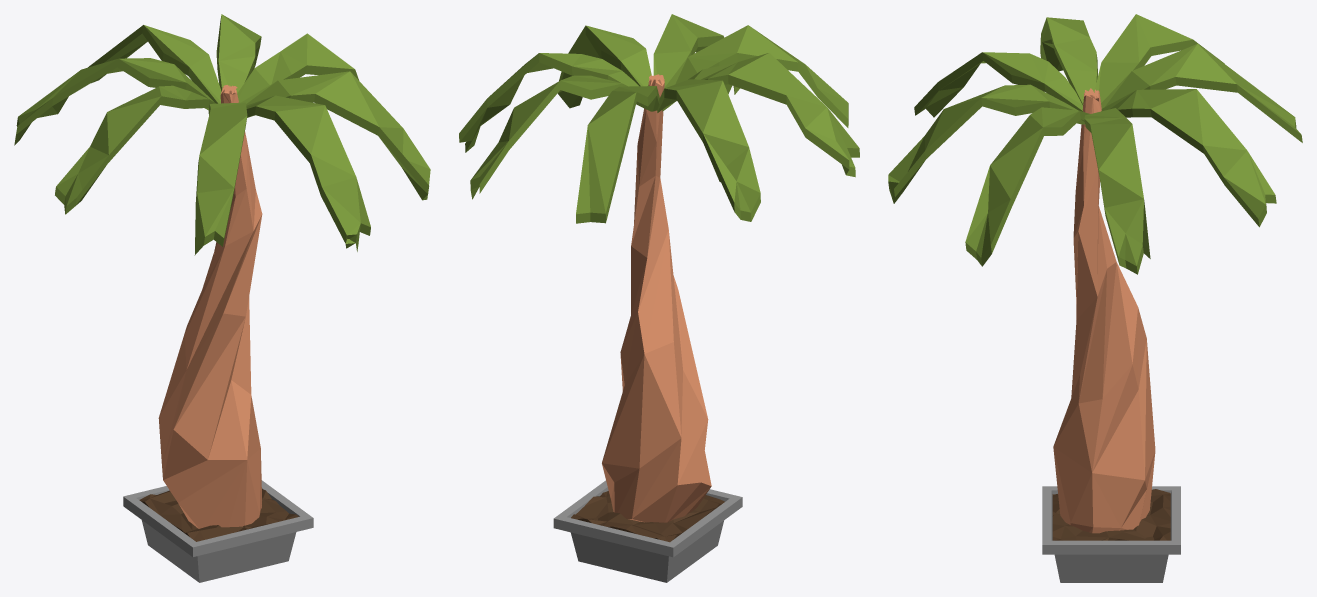
File: palmier.fbx
The picture shows the model from 3 angles, left to right: view 1: azimuth 30°, elevation 25°; view 2: azimuth 150°, elevation 25°; view 3: azimuth 270°, elevation 25°; orthographic projection.
Visible parts, largest first — view 1: Plane, Cylinder.001, Cube, Plane.001; view 2: Plane, Cylinder.001, Cube, Plane.001; view 3: Plane, Cylinder.001, Cube, Plane.001.
Boxes of the visible parts, bbox=[...] form: Plane: bbox=[14, 14, 430, 255]; Cylinder.001: bbox=[158, 85, 262, 528]; Cube: bbox=[123, 480, 313, 582]; Plane.001: bbox=[139, 489, 298, 541]; Plane: bbox=[459, 14, 859, 223]; Cylinder.001: bbox=[602, 74, 711, 522]; Cube: bbox=[553, 480, 742, 582]; Plane.001: bbox=[571, 491, 724, 542]; Plane: bbox=[888, 14, 1302, 274]; Cylinder.001: bbox=[1053, 88, 1155, 533]; Cube: bbox=[1042, 486, 1180, 582]; Plane.001: bbox=[1052, 489, 1170, 540].
Bounding box in the file's own units: 14.83 × 19.99 × 14.88.
